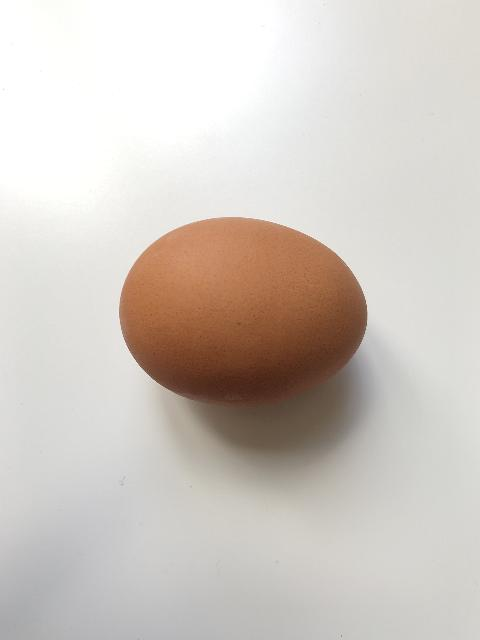Sano: (118, 215, 368, 408)
